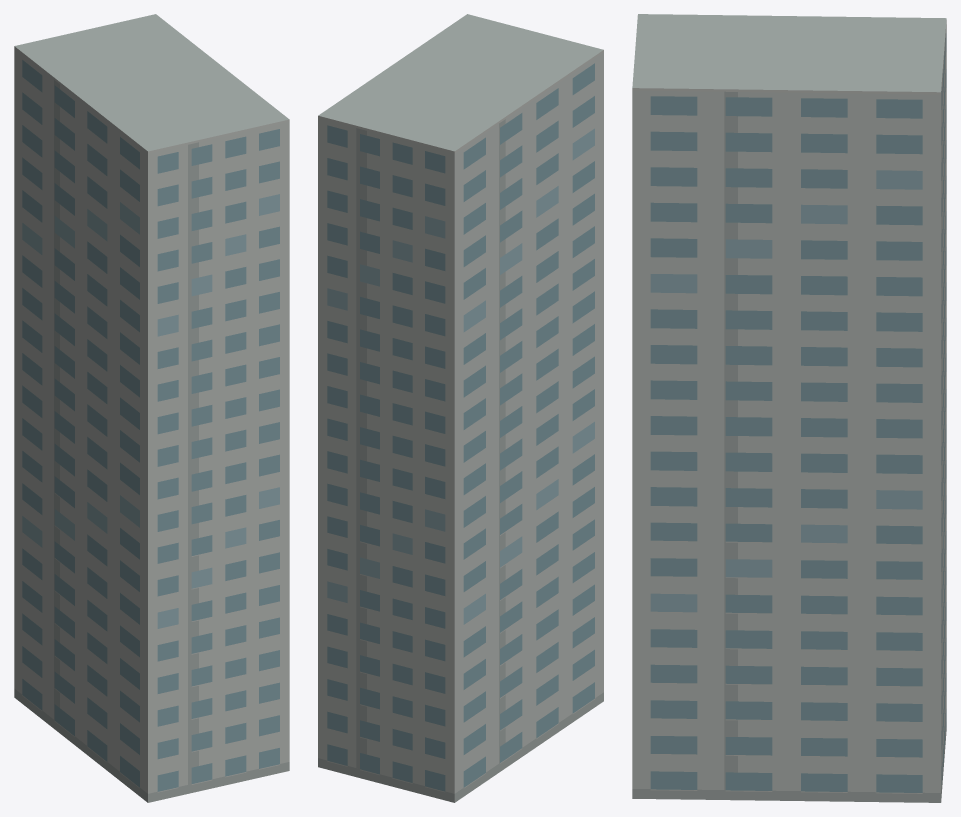
Rendered from residential-1f9d1d3b-ea9b-4e27-8865-0858095d054f.glb.
The picture shows the model from 3 angles, left to right: view 1: azimuth 30°, elevation 25°; view 2: azimuth 150°, elevation 25°; view 3: azimuth 270°, elevation 25°; orthographic projection. The views are drawn at different scales.
Parts seen in each view (by area): view 1: residential-1f9d1d3b-ea9b-4e27-8865-0858095d054f.tmp; view 2: residential-1f9d1d3b-ea9b-4e27-8865-0858095d054f.tmp; view 3: residential-1f9d1d3b-ea9b-4e27-8865-0858095d054f.tmp.
Boxes of the visible parts, bbox=[...] form: residential-1f9d1d3b-ea9b-4e27-8865-0858095d054f.tmp: bbox=[14, 14, 289, 802]; residential-1f9d1d3b-ea9b-4e27-8865-0858095d054f.tmp: bbox=[318, 14, 603, 802]; residential-1f9d1d3b-ea9b-4e27-8865-0858095d054f.tmp: bbox=[632, 14, 946, 802].
Bounding box in the file's own units: 16.29 × 69 × 27.66.
